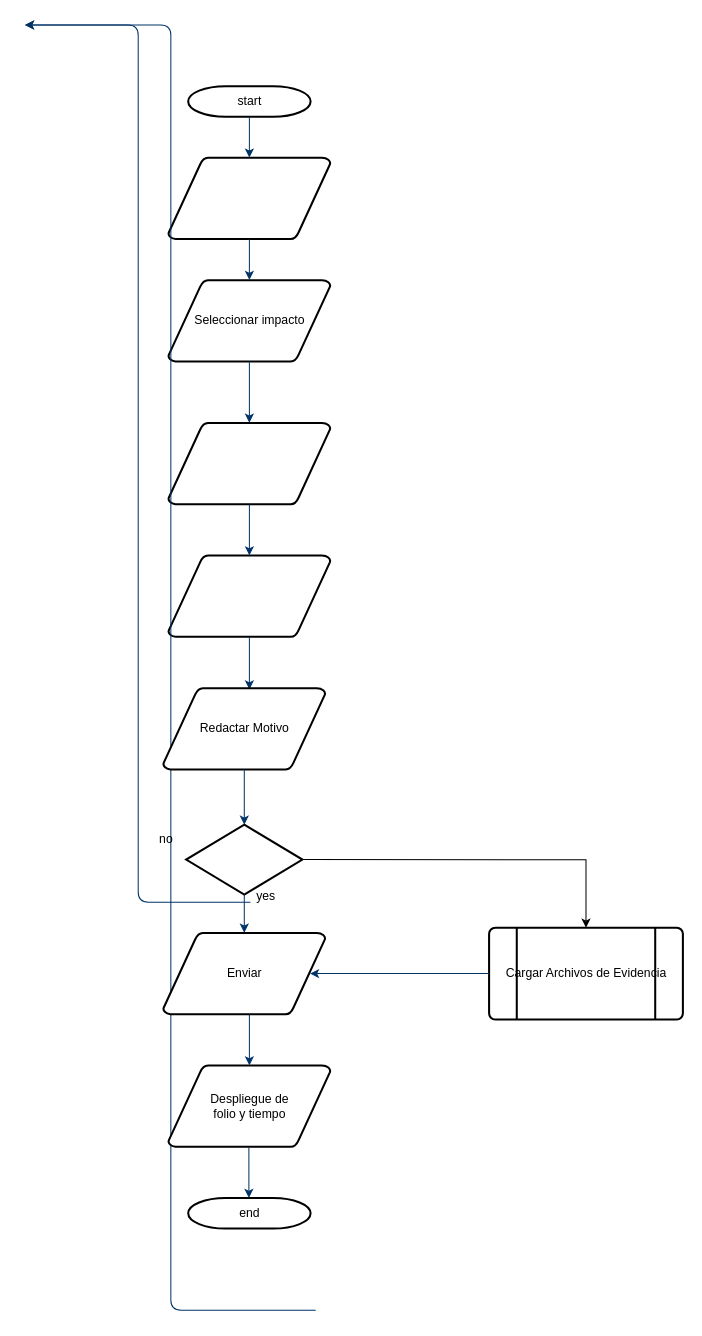
Some shapes in this 702 by 1336 pixel diagram are drawn without their labels. Here are the shapes that lost their labels. From the top down, the centre of each, then its label:
pixel 249 198: Abrir pagina WEB Para levantar Ticket
pixel 249 463: Seleccionar área Para resolución
pixel 249 596: Indicar tema
pixel 244 859: Cargar Evidencia
